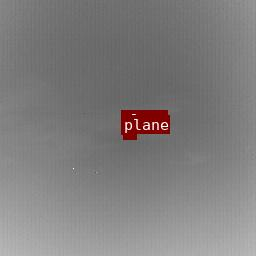plane: (121, 129, 136, 134), (123, 134, 136, 139)
